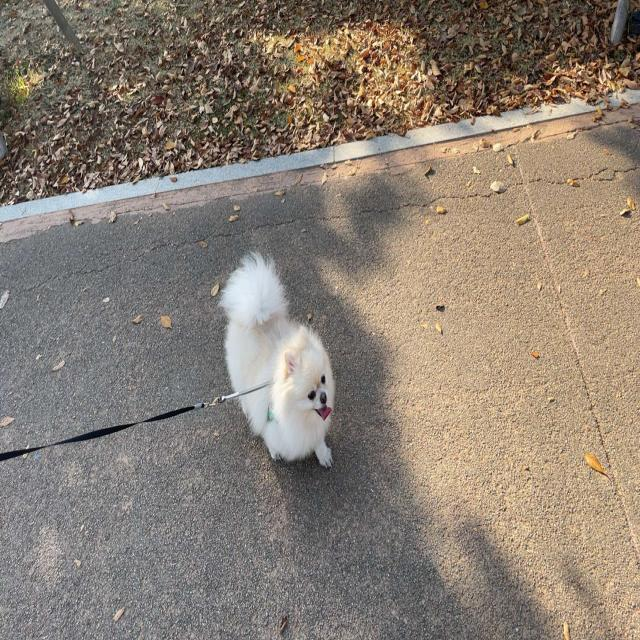Dog: (218, 248, 337, 471)
